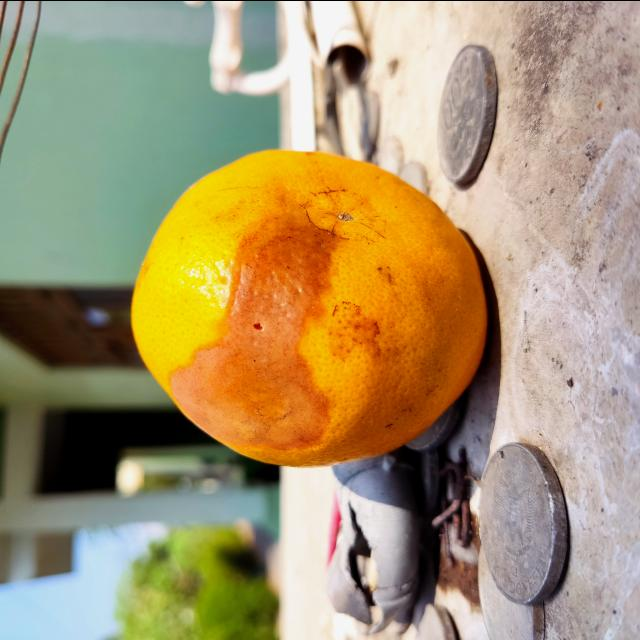orange: (130, 146, 488, 469)
